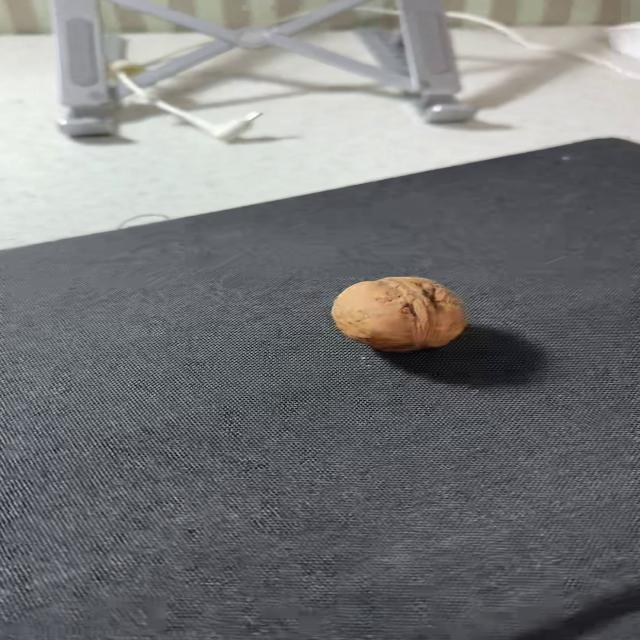nuts-good: (332, 277, 466, 352)
